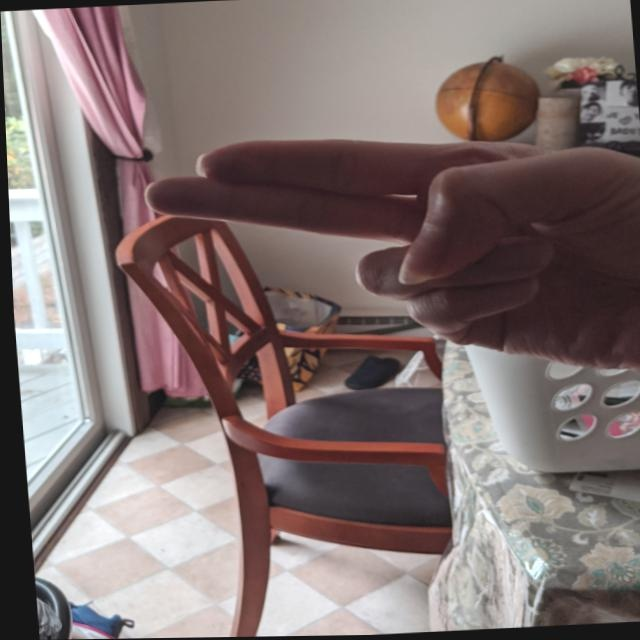H: (124, 112, 639, 408)
